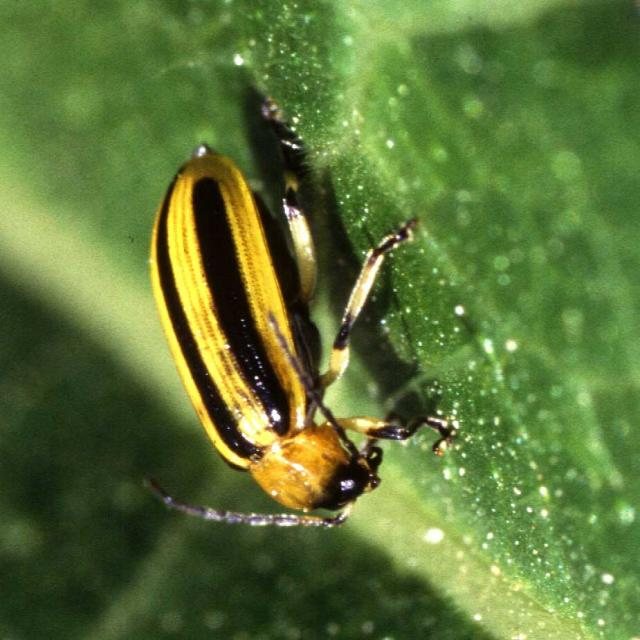cucumber_beetle: (114, 124, 466, 552)
